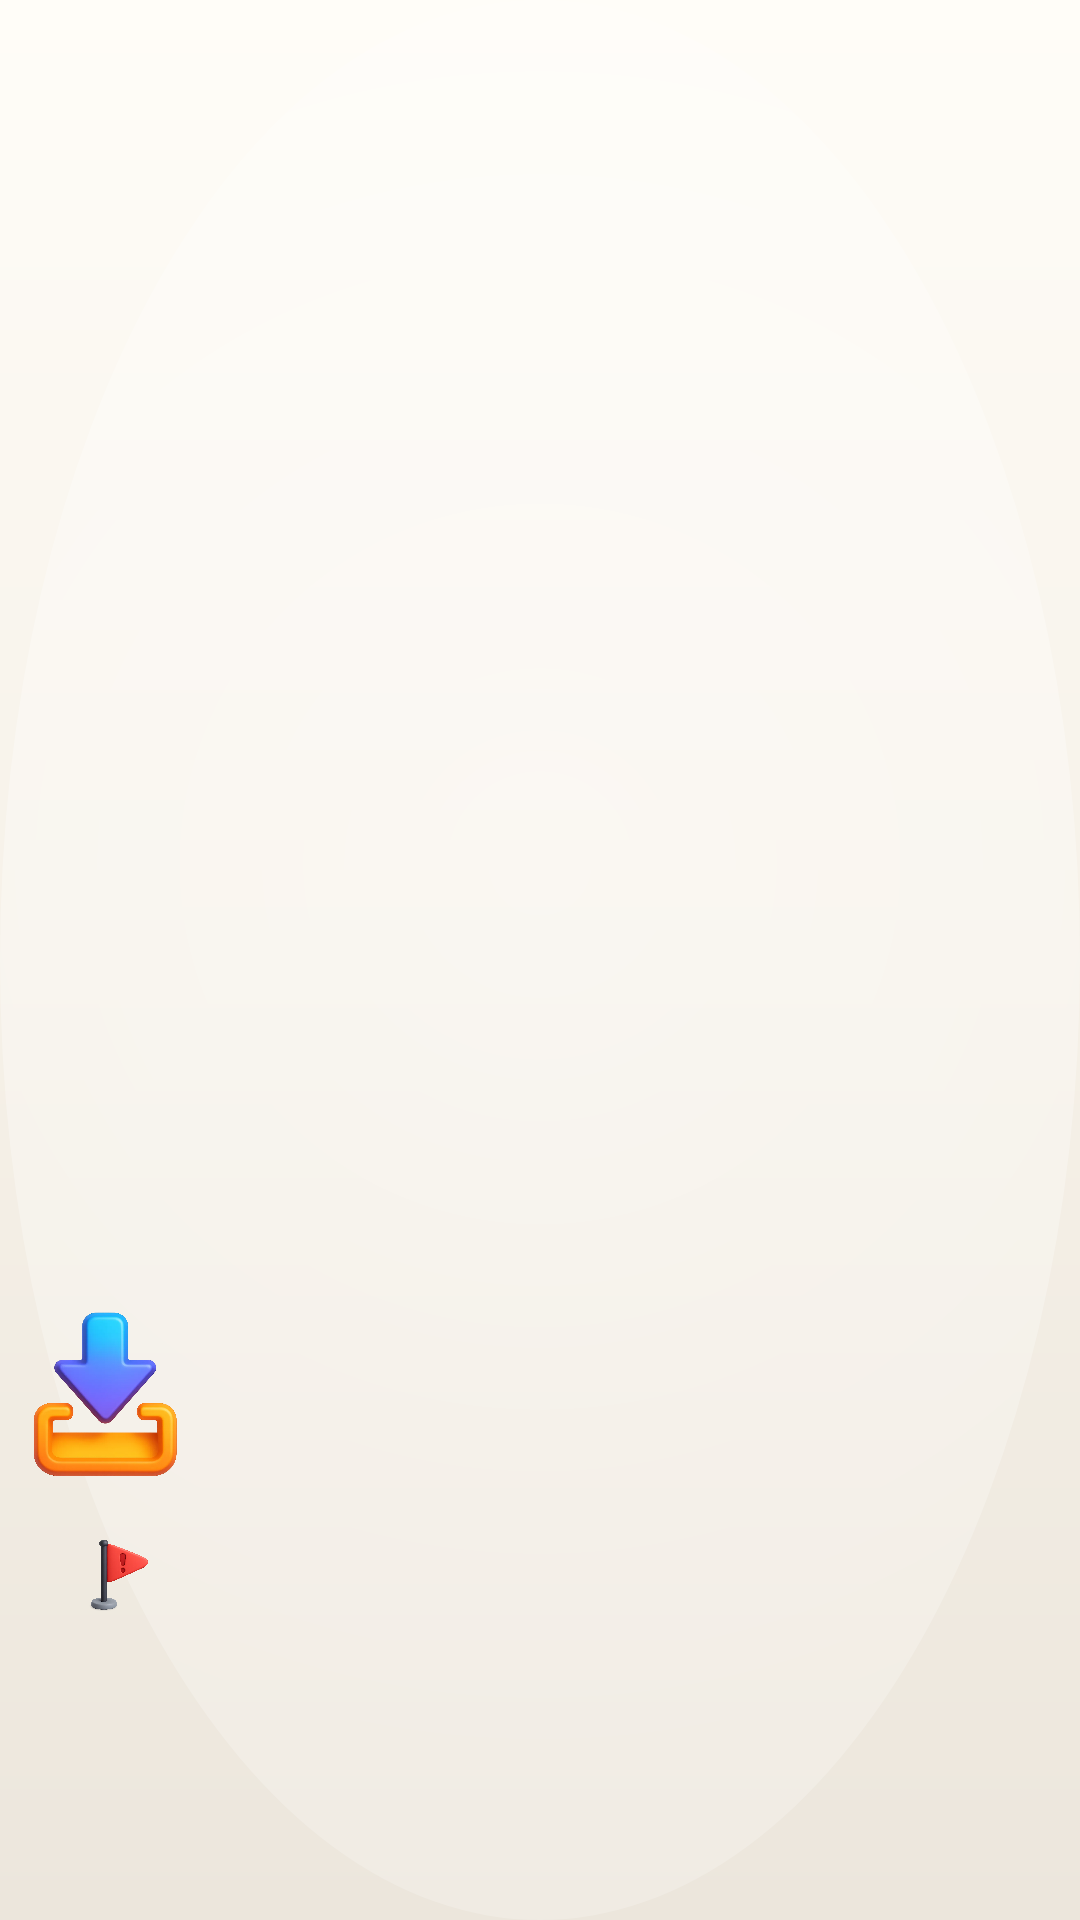

Named icons in this screenshot (1080×1920) and their bounding boxes, [left=x1, top=y1, right=x2, bottom=y2]:
Download: [left=34, top=1312, right=177, bottom=1476]
Report content: [left=91, top=1540, right=148, bottom=1610]
